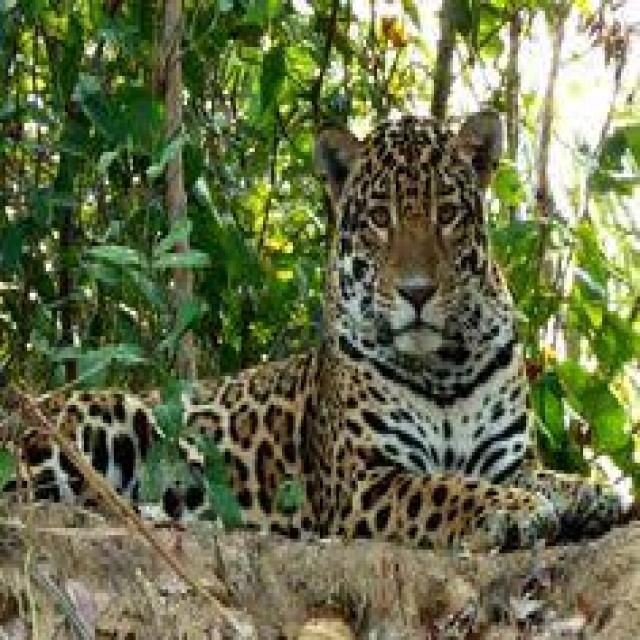Jaguar: (55, 116, 600, 560)
